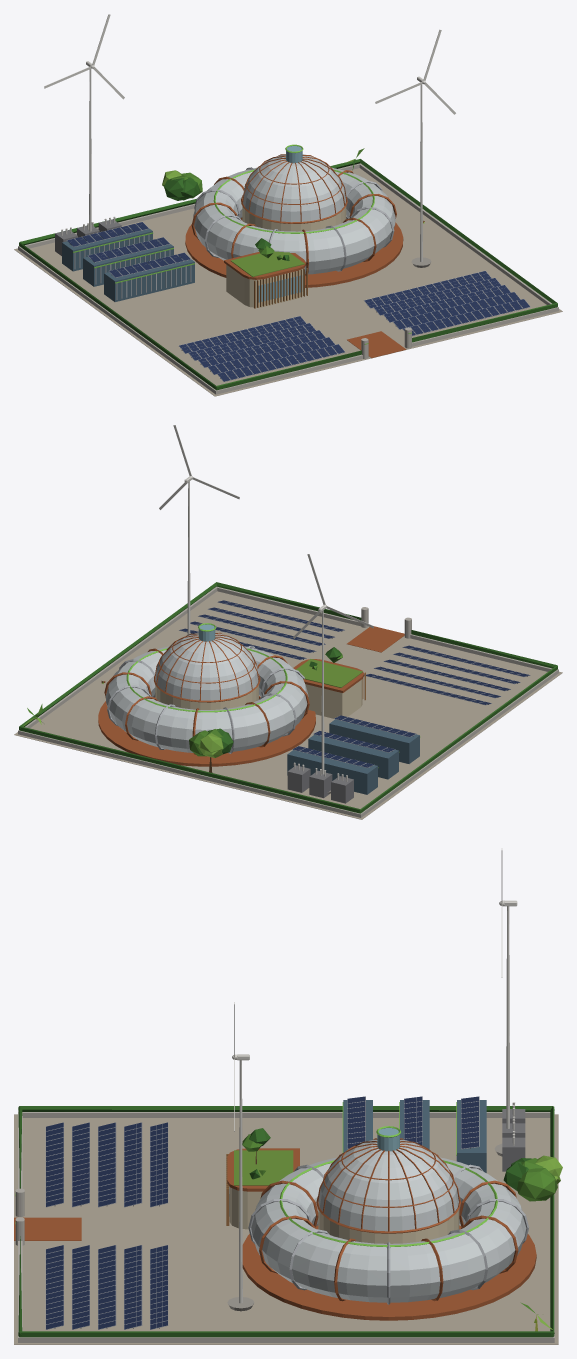
The model's file is power_plant.glb.
3 views of the same model, one above another, from view 1: azimuth 30°, elevation 25°; view 2: azimuth 150°, elevation 25°; view 3: azimuth 270°, elevation 25° (orthographic). The views are drawn at different scales.
Visible parts, largest first — view 1: body, windows; view 2: body, windows; view 3: body, windows.
Boxes of the visible parts, bbox=[...] form: body: bbox=[14, 14, 562, 396]; windows: bbox=[73, 144, 411, 344]; body: bbox=[14, 425, 562, 819]; windows: bbox=[126, 623, 420, 767]; body: bbox=[14, 848, 562, 1344]; windows: bbox=[15, 1102, 497, 1247].
Bounding box in the file's own units: 47.9 × 30.86 × 48.27.
